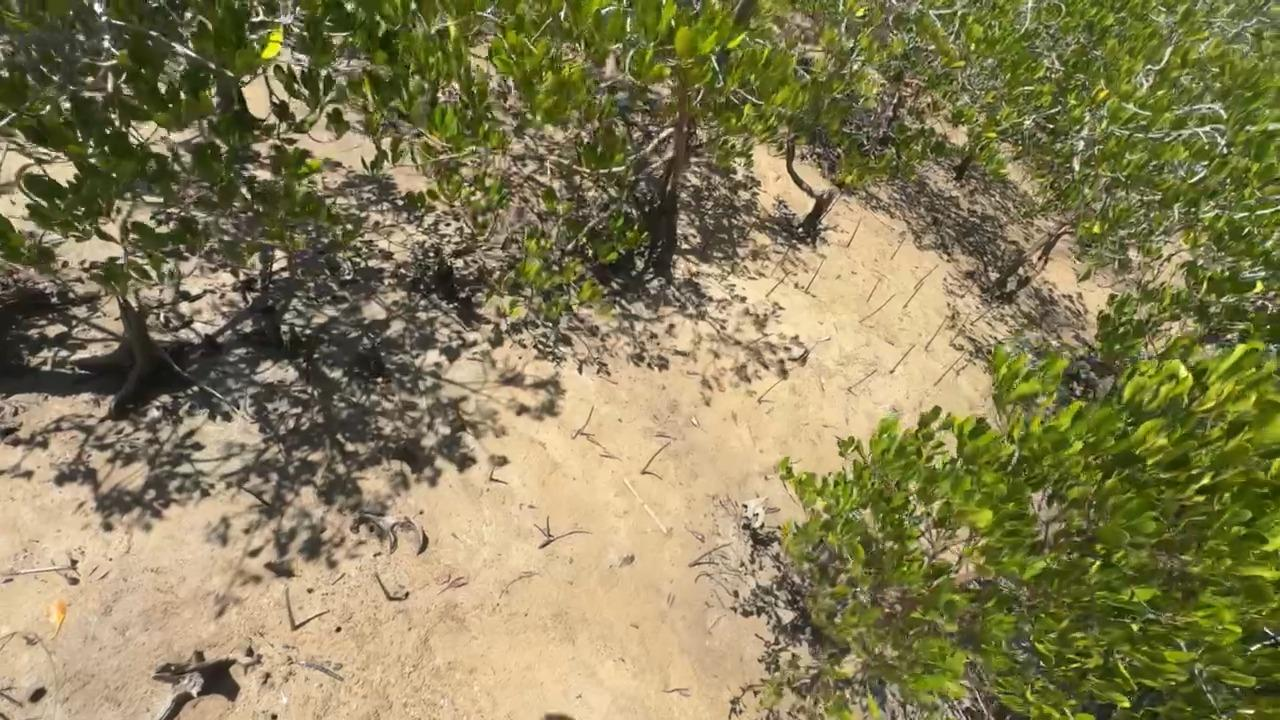Tree: (686, 541, 737, 568), (932, 350, 968, 386), (858, 293, 895, 323), (640, 441, 672, 474), (924, 313, 947, 350), (889, 343, 916, 374), (803, 257, 826, 293), (765, 270, 794, 296), (913, 264, 940, 290), (757, 376, 785, 401), (901, 281, 927, 307), (847, 368, 878, 389), (283, 585, 297, 630), (744, 207, 764, 238), (952, 311, 972, 341), (846, 217, 863, 248), (578, 403, 595, 433), (374, 571, 391, 600), (866, 278, 883, 302), (890, 236, 906, 261), (971, 307, 993, 325), (545, 515, 552, 539)
